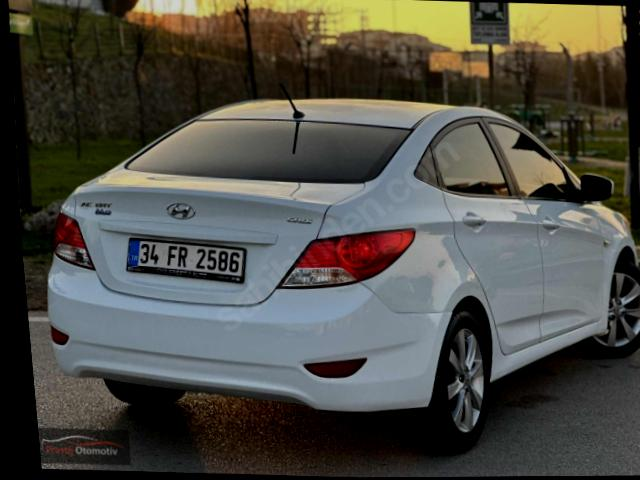plaka: (126, 238, 246, 283)
